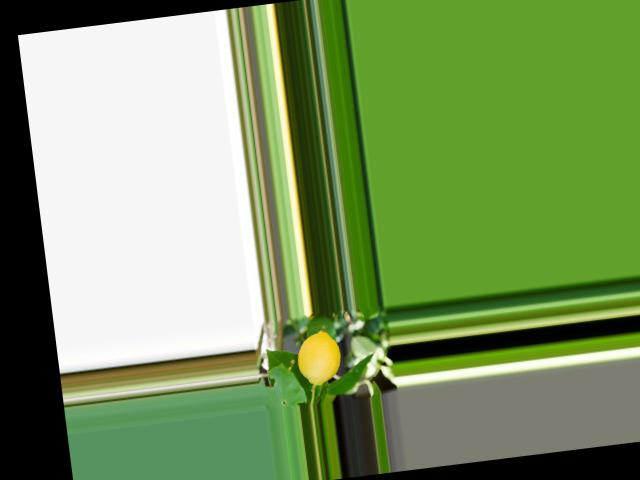lemon: (293, 321, 349, 388)
